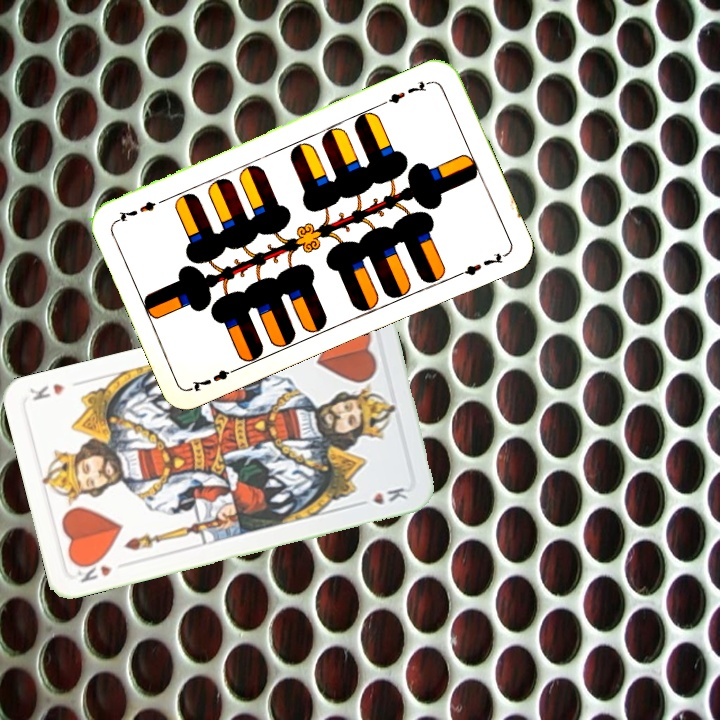E7: (379, 76, 435, 108), (187, 362, 243, 394)
HK: (71, 555, 115, 586)
